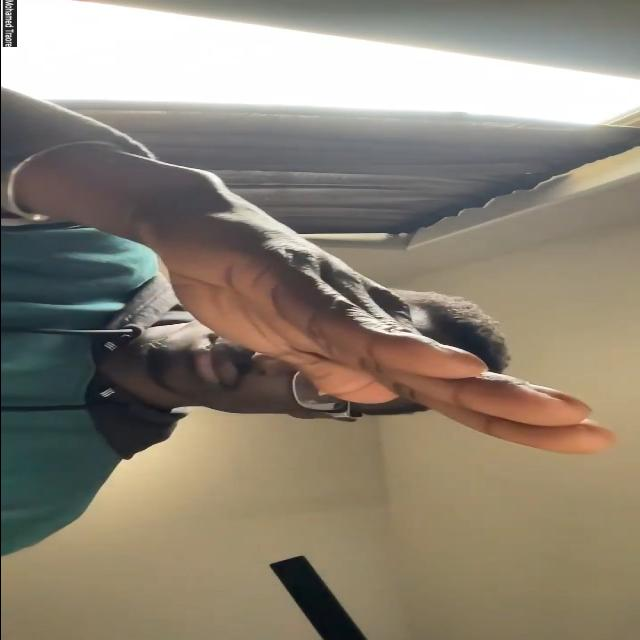Paper: (136, 178, 616, 456)
